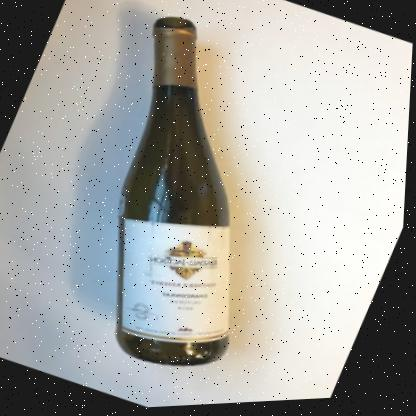Glass: (118, 18, 232, 368)
